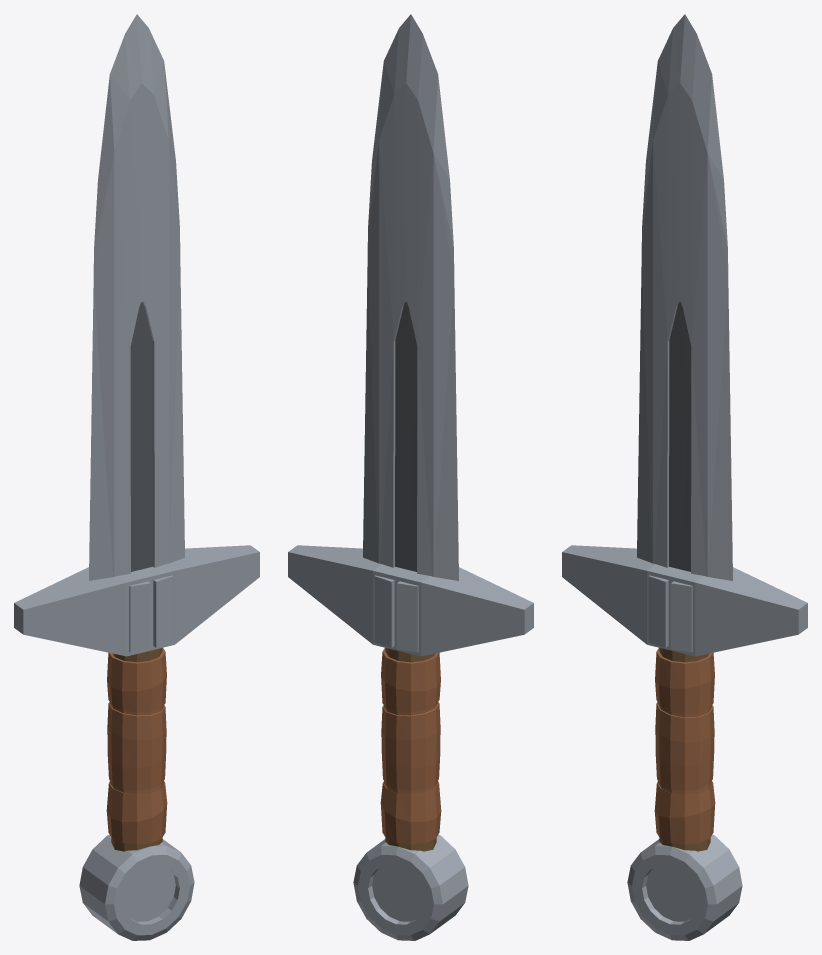
Rendered from Iron dagger.fbx.
3 renders of one model, left to right at view 1: azimuth 30°, elevation 25°; view 2: azimuth 150°, elevation 25°; view 3: azimuth 330°, elevation 25°, orthographic.
Parts seen in each view (by area): view 1: Dagger 0; view 2: Dagger 0; view 3: Dagger 0.
Part boxes in pixels (x1,y1,x2,y2): Dagger 0: [14, 14, 259, 940]; Dagger 0: [288, 14, 533, 940]; Dagger 0: [562, 14, 807, 940].
Bounding box in the file's own units: 0.1358 × 0.503 × 0.033.
